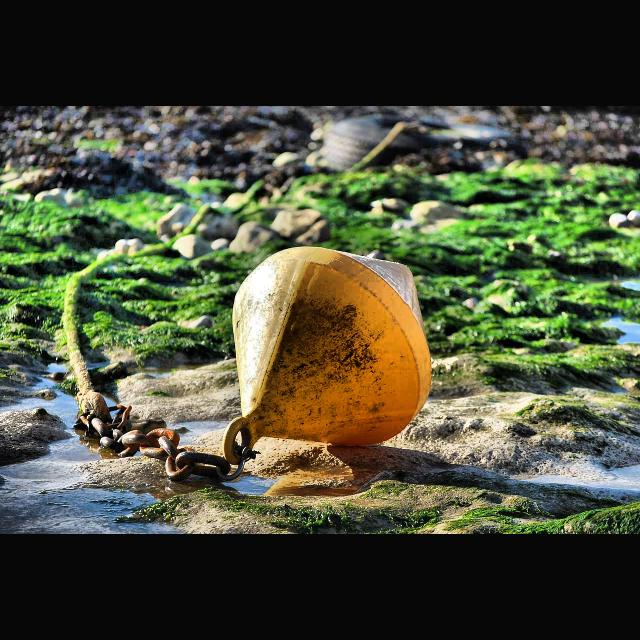buoy: (221, 246, 435, 472)
